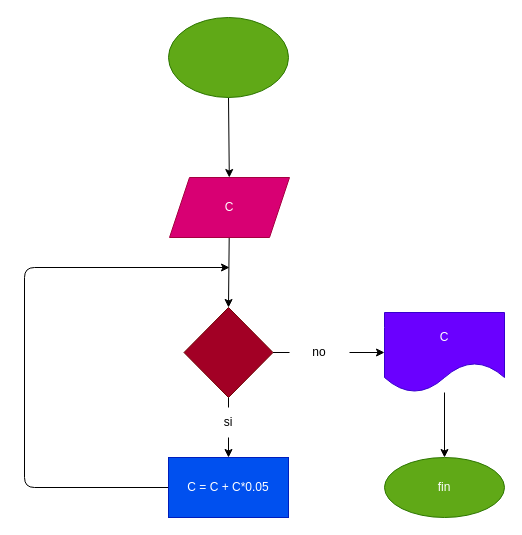
Image size: 522x535. Some labels were removed from this diagram. Each missing label, with the centre of its shape:
C < 2C: the point at 228,352
inicio: the point at 228,57
